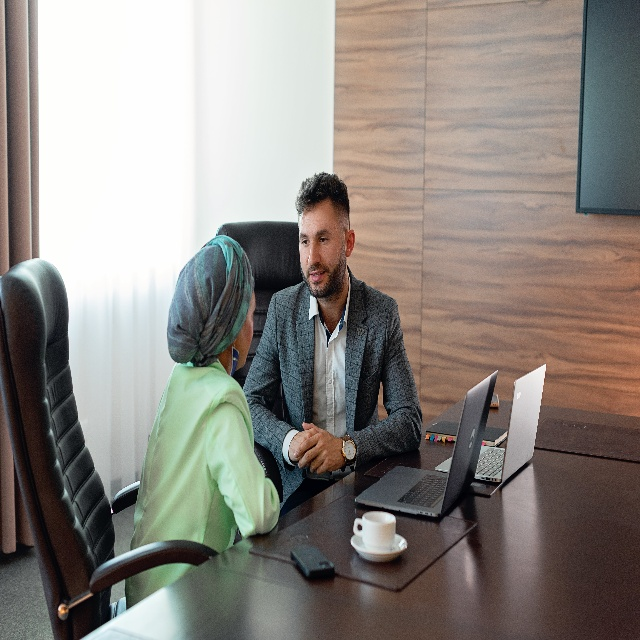Sin_guantes: (294, 418, 342, 471)
